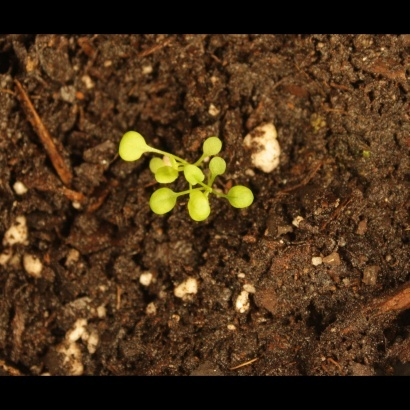leaf: (184, 189, 214, 225), (226, 185, 264, 213), (116, 130, 149, 162), (151, 186, 178, 217), (198, 133, 226, 158), (184, 158, 207, 187), (209, 157, 232, 180), (156, 162, 179, 185), (147, 154, 170, 177)
